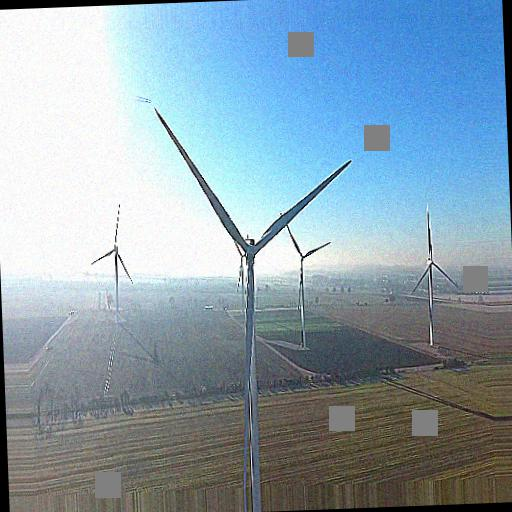wind turbine: (152, 106, 352, 497), (280, 213, 331, 352), (414, 207, 459, 349), (91, 203, 133, 323)
